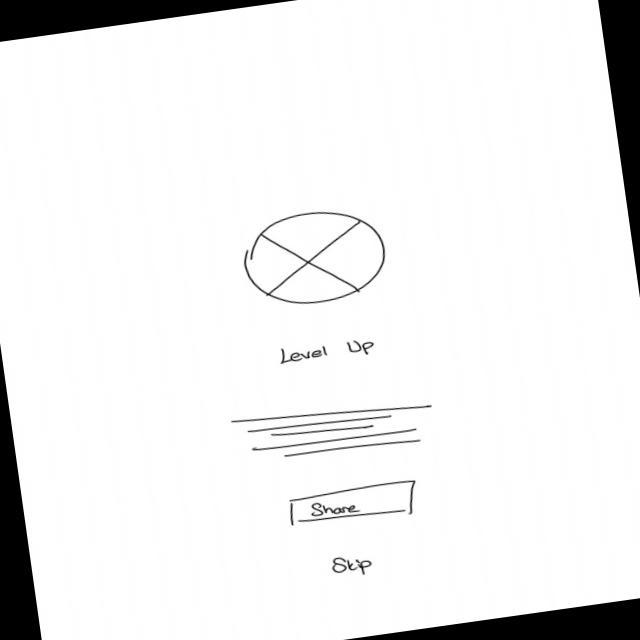button: (284, 478, 423, 534)
image: (238, 203, 393, 315)
label: (278, 334, 381, 369), (329, 551, 378, 582)
textbox: (231, 393, 440, 470)
